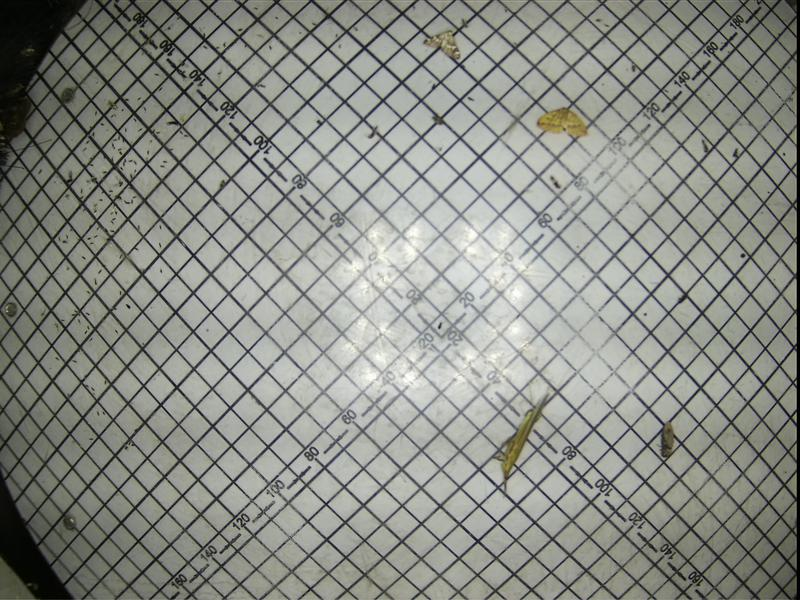Agriotes fuscicollis Miwa: (655, 420, 673, 457)
